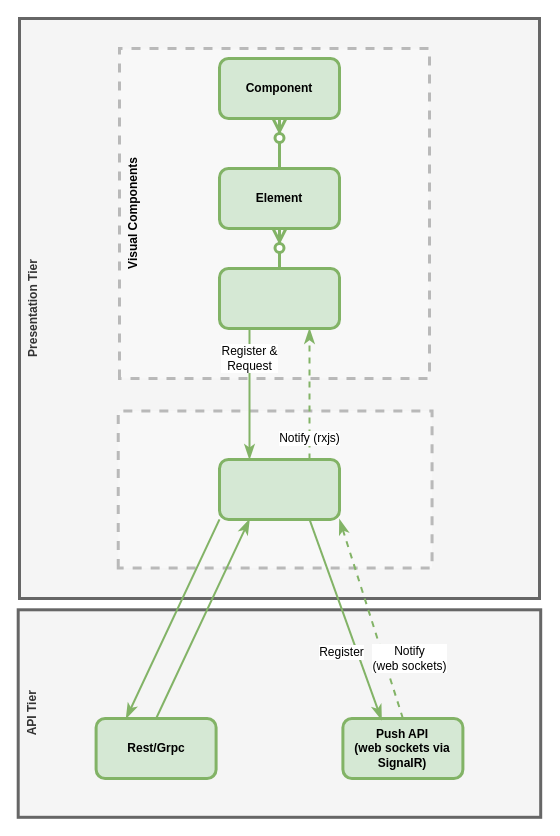
This 560x836 diagram has some shape labels left out. The box of each missing label's shape, as (x1, y1, x2, y2) in pixels:
Module: (218, 266, 340, 330)
Source Service: (218, 457, 340, 520)
State: (116, 409, 433, 569)
